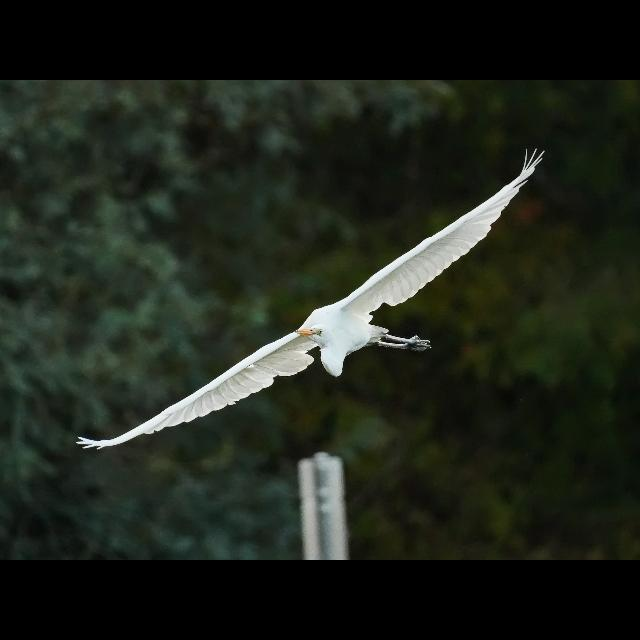egret: (72, 148, 550, 448)
